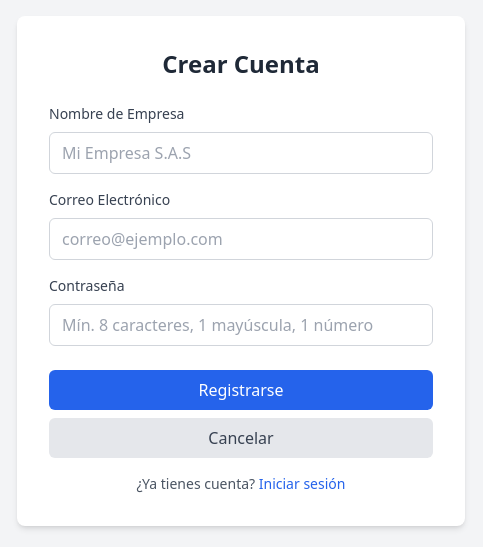
Test: RegisterComponent › Sad path - Invalid password › should be invalid with short password and block submit
In the field with placeholder "Mi Empresa S.A.S": (241, 153) [49,132,433,174], type "Mi Empresa"
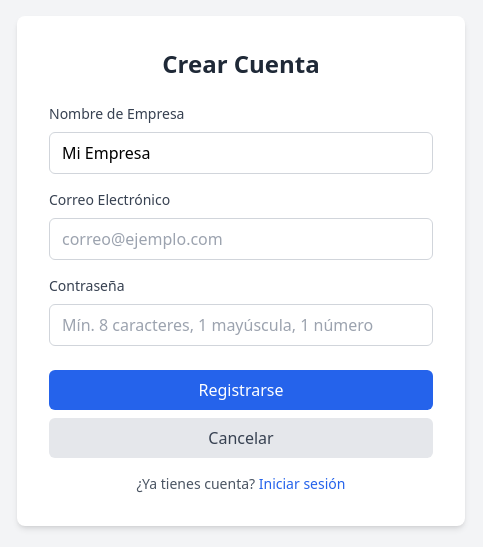
In the field with placeholder "correo@ejemplo.com": (241, 239) [49,218,433,260], type "test@correo.com"
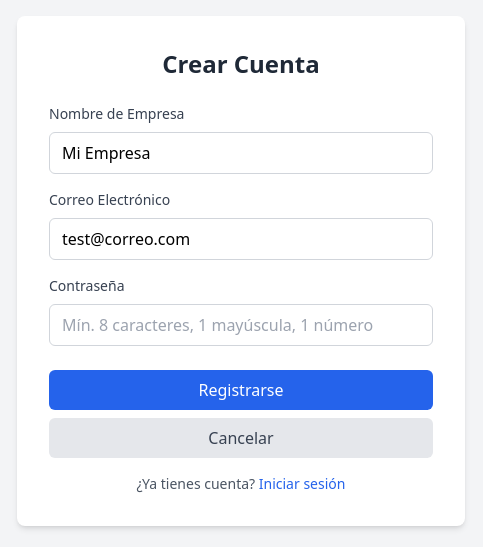
In the password field with placeholder "Mín. 8 caracteres, 1 mayúscula, 1 número": (241, 325) [49,304,433,346], type "123"
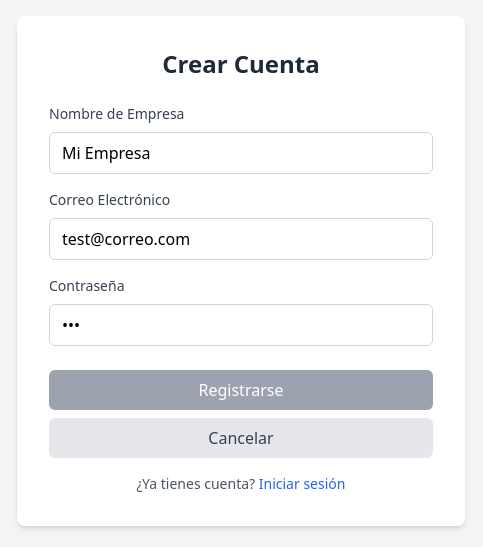
expect the submit button is disabled: met, box [49,370,433,410]
